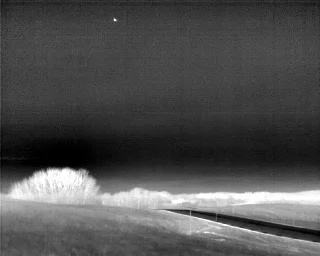BIRD: (111, 15, 119, 25)
